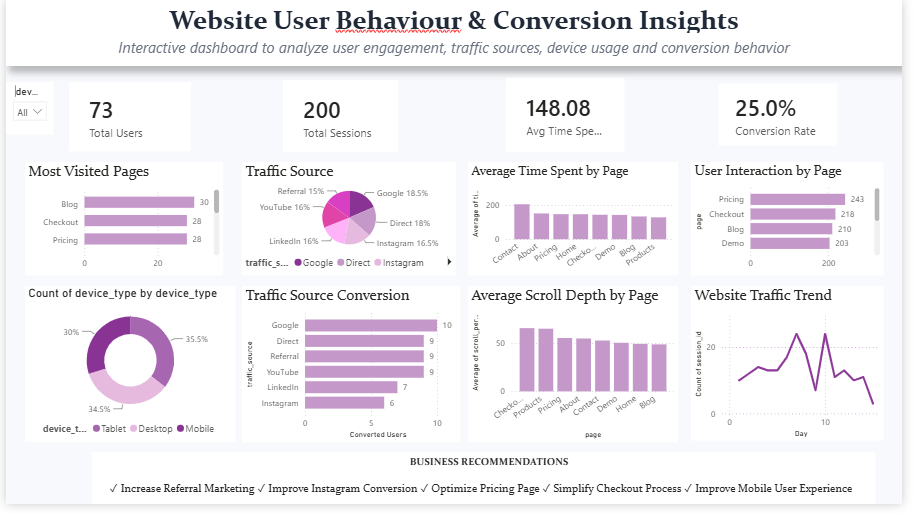

The dashboard page shown, as its layout file describes it:
{"tool":"powerbi","page":{"name":"Page 1","canvas":[1280,720],"ordinal":0},"visuals":[{"type":"shape","box":[123.1,659.8,1118,60.2],"z":0},{"type":"shape","box":[0,0,1280.2,93.6],"z":1000},{"type":"cardVisual","fields":{"Data":["processed_website_data.Total Users"]},"box":[90.3,116.5,174.1,99.5],"z":2000},{"type":"cardVisual","fields":{"Data":["processed_website_data.Total Sessions"]},"box":[395.3,113.9,163.6,103.4],"z":3000},{"type":"cardVisual","fields":{"Data":["processed_website_data.Avg Time Spent"]},"box":[714.8,111.3,168.9,106],"z":4000},{"type":"clusteredBarChart","title":"Most Visited Pages","fields":{"Y":["CountNonNull(processed_website_data.page)"],"Category":["processed_website_data.page"]},"box":[27.5,231.7,282.8,162.3],"z":6000},{"type":"pieChart","title":"Traffic Source","fields":{"Category":["processed_website_data.traffic_source"],"Y":["CountNonNull(processed_website_data.traffic_source)"]},"box":[337.7,231.7,306.3,162.3],"z":7000},{"type":"clusteredColumnChart","title":"Average Time Spent by Page","fields":{"Category":["processed_website_data.page"],"Y":["Avg(processed_website_data.time_spent_seconds)"]},"box":[659.8,231.7,299.8,162.3],"z":8000},{"type":"donutChart","fields":{"Category":["processed_website_data.device_type"],"Y":["CountNonNull(processed_website_data.device_type)"]},"box":[27.5,408.4,301.1,222.5],"z":9000},{"type":"clusteredBarChart","title":"Traffic Source Conversion","fields":{"Y":["processed_website_data.Converted Users"],"Category":["processed_website_data.traffic_source"]},"box":[337.7,408.4,311.6,222.5],"z":10000},{"type":"columnChart","title":"Average Scroll Depth by Page","fields":{"Category":["processed_website_data.page"],"Y":["Avg(processed_website_data.scroll_percentage)"]},"box":[659.8,408.4,299.8,222.5],"z":11000},{"type":"barChart","title":"User Interaction by Page","fields":{"Category":["processed_website_data.page"],"Y":["Sum(processed_website_data.clicks)"]},"box":[979.2,231.7,274.9,162.3],"z":12000},{"type":"textbox","title":"     Website User Behaviour & Conversion InsightsInteractive dashboard to analyze user engagement, traffic sources, device usage and conversion behaviour.","box":[0,0,1280.3,56.3],"z":13000},{"type":"slicer","fields":{"Values":["processed_website_data.device_type","processed_website_data.traffic_source","processed_website_data.page"]},"box":[0,116.5,68.1,74.6],"z":14000},{"type":"lineChart","title":"Website Traffic Trend","fields":{"Y":["CountNonNull(processed_website_data.session_id)"],"Category":["processed_website_data.timestamp.Variation.Date Hierarchy.Day"]},"box":[979.2,408.4,274.9,221.2],"z":15000},{"type":"textbox","box":[123.1,645.4,1119.3,74.6],"z":16000},{"type":"textbox","box":[0,47.1,1280.3,47.1],"z":17000},{"type":"cardVisual","fields":{"Data":["processed_website_data.Conversion Rate"]},"box":[1013.2,113.9,179.3,99.5],"z":17001}]}

Visuals, with their boxes in screenshot pixels (x1, y1, x2, y2), scaled from the page's 1280x720 canvas onto the 918x514 screenshot:
shape: crop(88, 471, 890, 513)
shape: crop(0, 0, 917, 67)
cardVisual - processed_website_data.Total Users: crop(65, 83, 190, 154)
cardVisual - processed_website_data.Total Sessions: crop(284, 81, 401, 155)
cardVisual - processed_website_data.Avg Time Spent: crop(513, 79, 634, 155)
"Most Visited Pages" clusteredBarChart: crop(20, 165, 223, 281)
"Traffic Source" pieChart: crop(242, 165, 462, 281)
"Average Time Spent by Page" clusteredColumnChart: crop(473, 165, 688, 281)
donutChart - processed_website_data.device_type x CountNonNull(processed_website_data.device_type): crop(20, 292, 236, 450)
"Traffic Source Conversion" clusteredBarChart: crop(242, 292, 466, 450)
"Average Scroll Depth by Page" columnChart: crop(473, 292, 688, 450)
"User Interaction by Page" barChart: crop(702, 165, 899, 281)
"     Website User Behaviour & Conversion InsightsInteractive dashboard to analyze user engagement, traffic sources, device usage and conversion behaviour." textbox: crop(0, 0, 917, 40)
slicer - processed_website_data.device_type x processed_website_data.traffic_source: crop(0, 83, 49, 136)
"Website Traffic Trend" lineChart: crop(702, 292, 899, 449)
textbox: crop(88, 461, 891, 513)
textbox: crop(0, 34, 917, 67)
cardVisual - processed_website_data.Conversion Rate: crop(727, 81, 855, 152)
